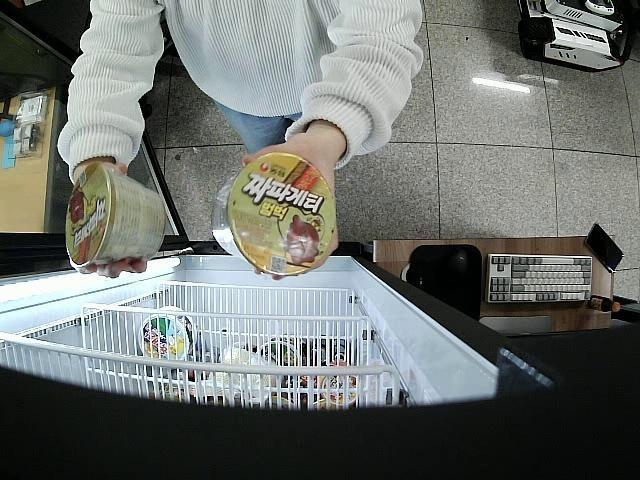04_chapagetti_S: (215, 154, 338, 271), (64, 162, 168, 265)
